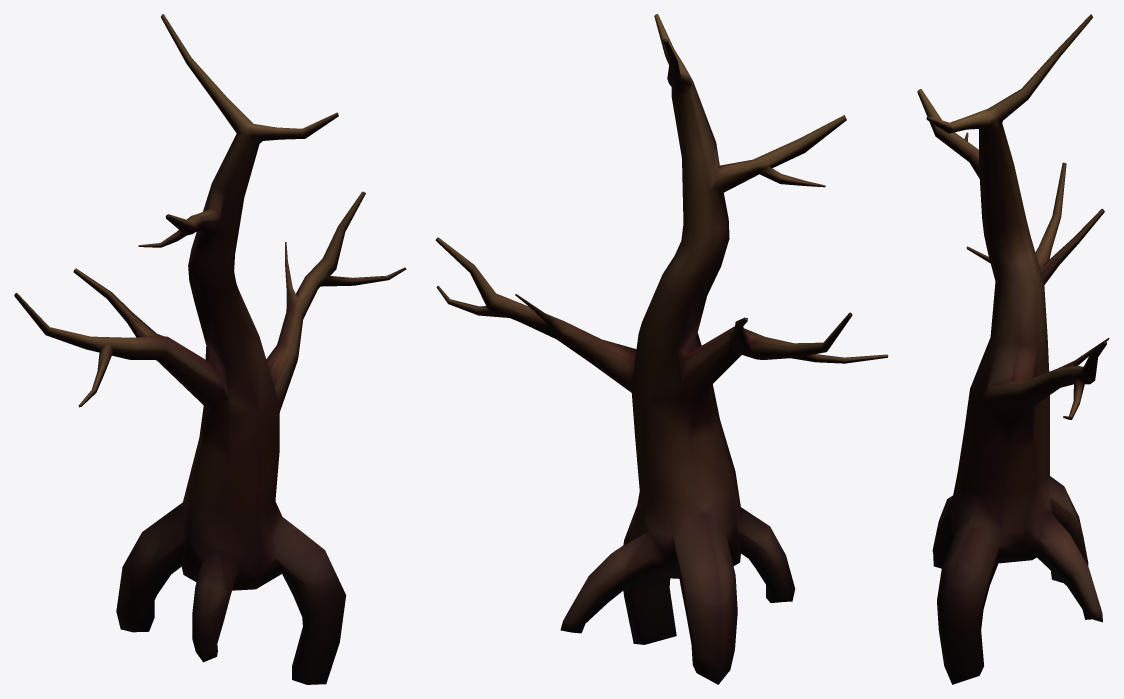
The model's file is tree.fbx.
3 views of the same model, side by side, from view 1: azimuth 30°, elevation 25°; view 2: azimuth 150°, elevation 25°; view 3: azimuth 270°, elevation 25° (orthographic). The views are drawn at different scales.
Parts seen in each view (by area): view 1: BgMD_DeadTree_01; view 2: BgMD_DeadTree_01; view 3: BgMD_DeadTree_01.
Part boxes in pixels (bbox=[...]): BgMD_DeadTree_01: bbox=[14, 14, 406, 684]; BgMD_DeadTree_01: bbox=[435, 14, 888, 684]; BgMD_DeadTree_01: bbox=[917, 14, 1109, 684].
Size of the model in its own units: 780 by 1219 by 339.
